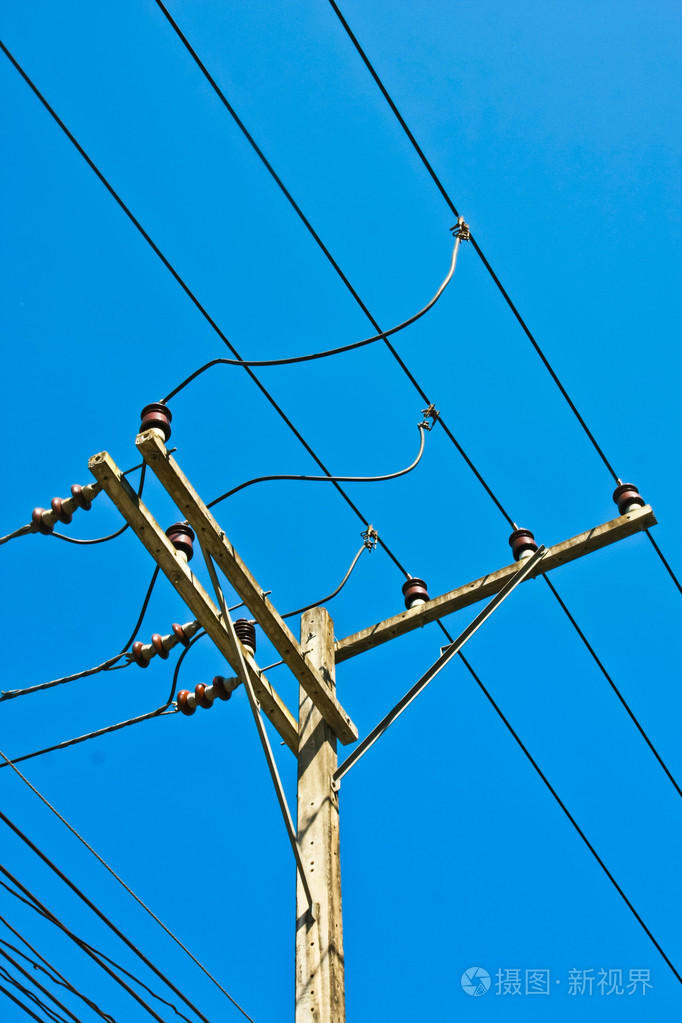insulator: (129, 619, 192, 675), (28, 483, 93, 535), (175, 678, 234, 717)
